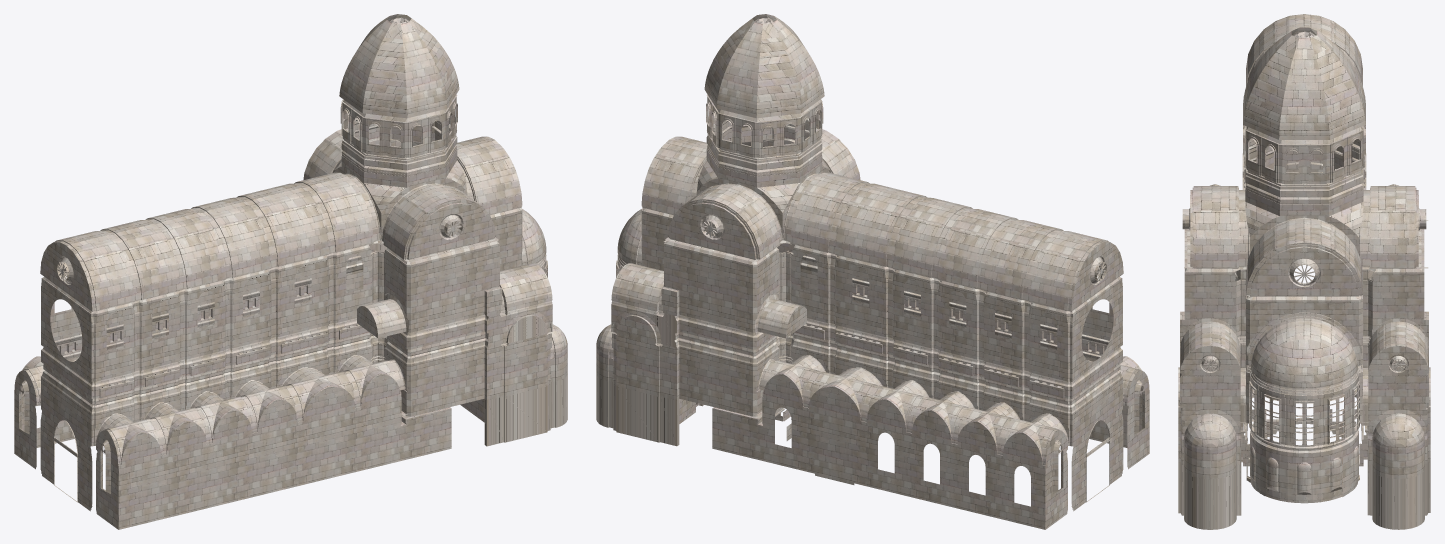
The model's file is kamen_zid.obj.
3 views of the same model, side by side, from view 1: azimuth 30°, elevation 25°; view 2: azimuth 150°, elevation 25°; view 3: azimuth 270°, elevation 25° (orthographic). The views are drawn at different scales.
Size of the model in its own units: 39.02 by 30.6 by 16.2.
